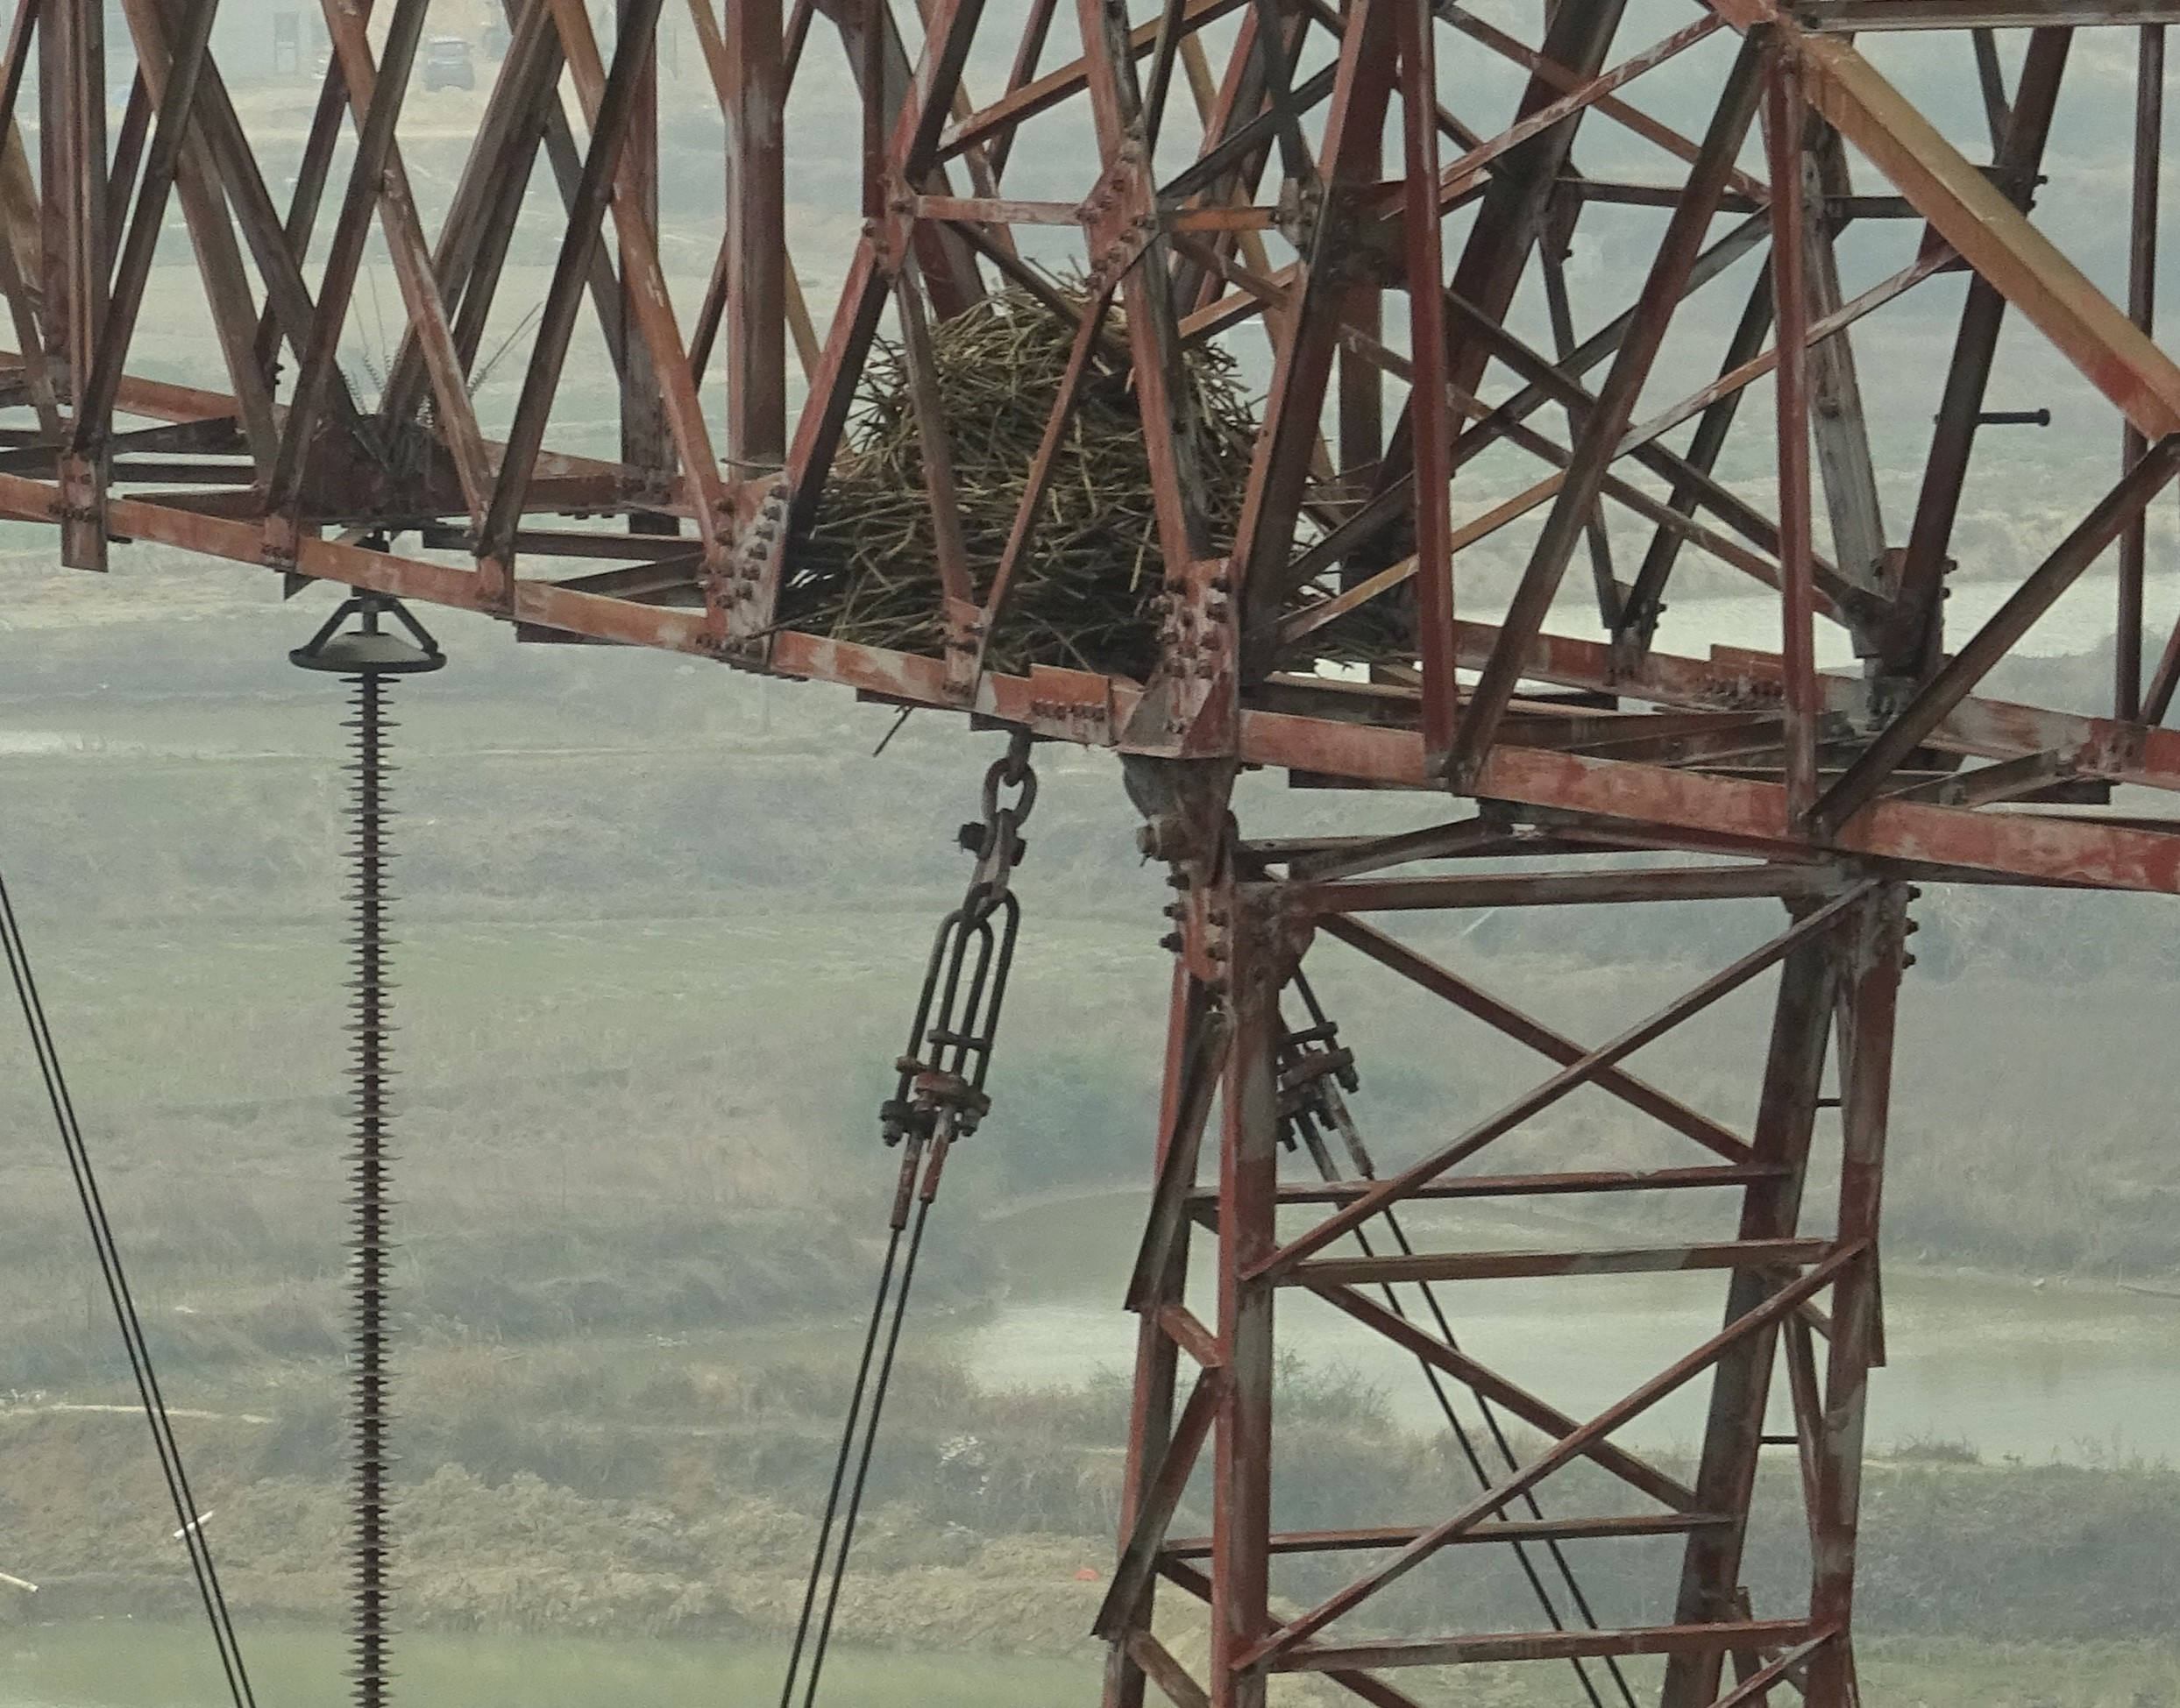niaowo: (770, 274, 1302, 669)
